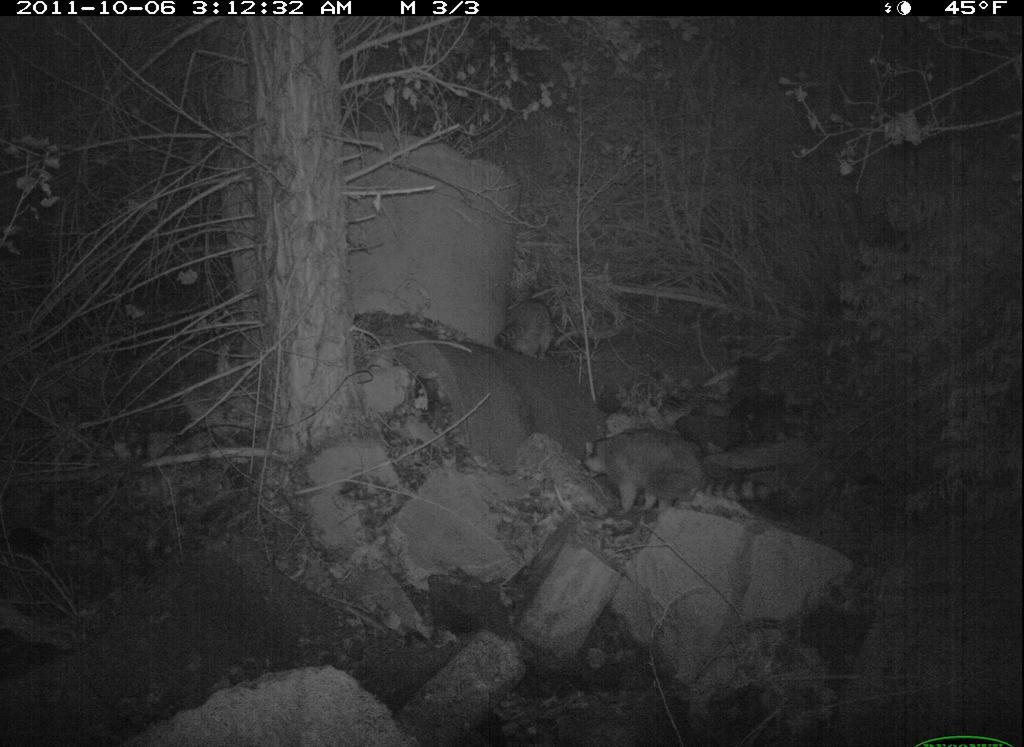raccoon: (577, 428, 785, 527)
